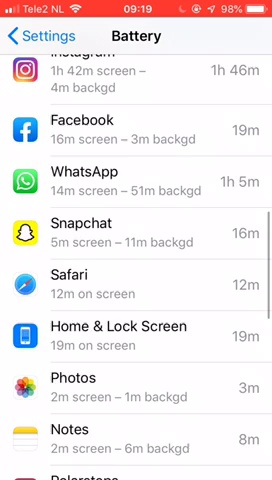app: (12, 111, 265, 151), (11, 164, 264, 204), (11, 213, 264, 253), (10, 262, 263, 302), (10, 315, 263, 355), (10, 369, 263, 409), (10, 420, 263, 460), (8, 418, 261, 458)
